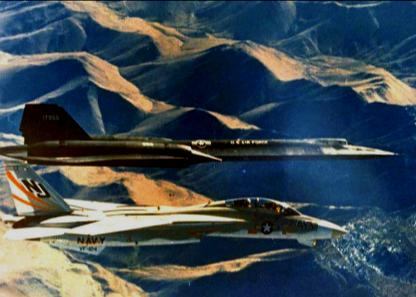EF2000: (0, 158, 348, 254)
Rafale: (0, 102, 404, 167)
